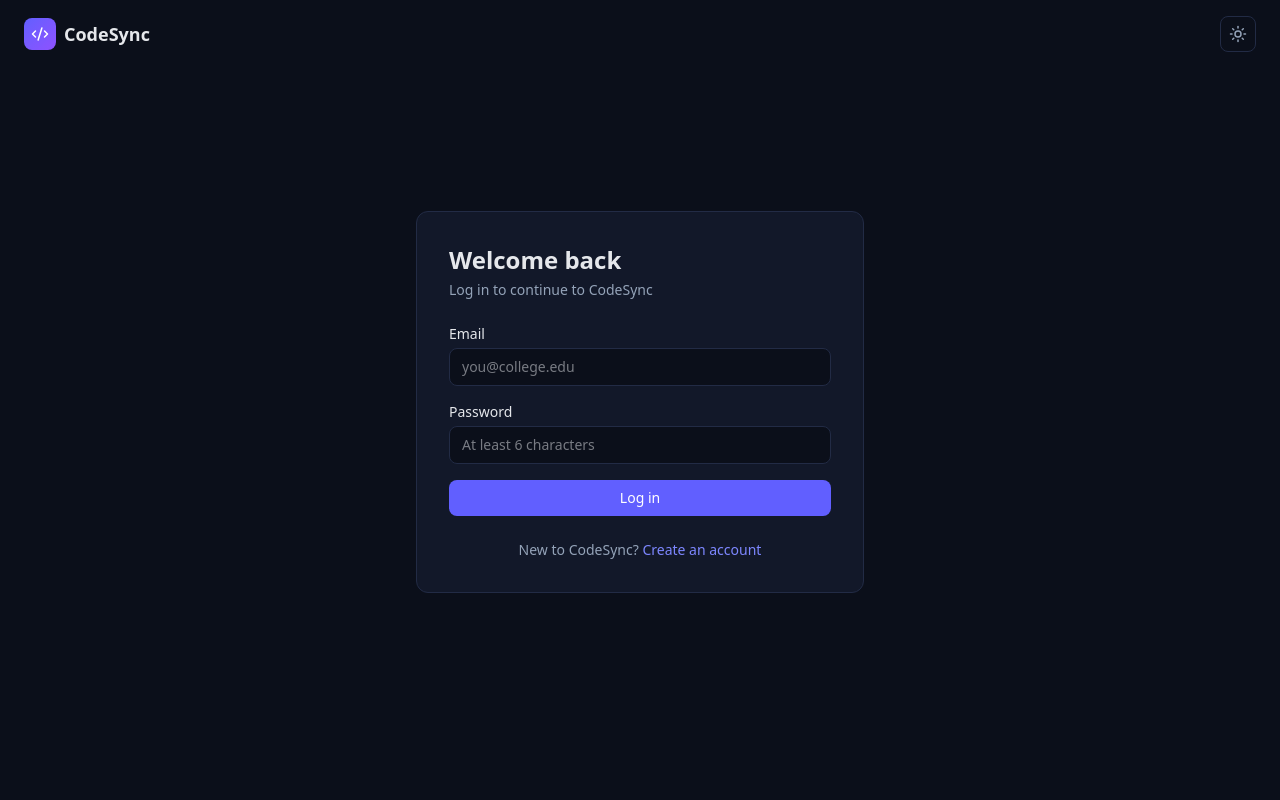
Scenario: Login page › explains what is wrong and does not call the server when the form is empty
The width and height of the screenshot is (1280, 800).
What coordinates should you click on to do the following:
click the button "Log in"
I would click on:
 (640, 498)
Its box is [449,480,831,516].
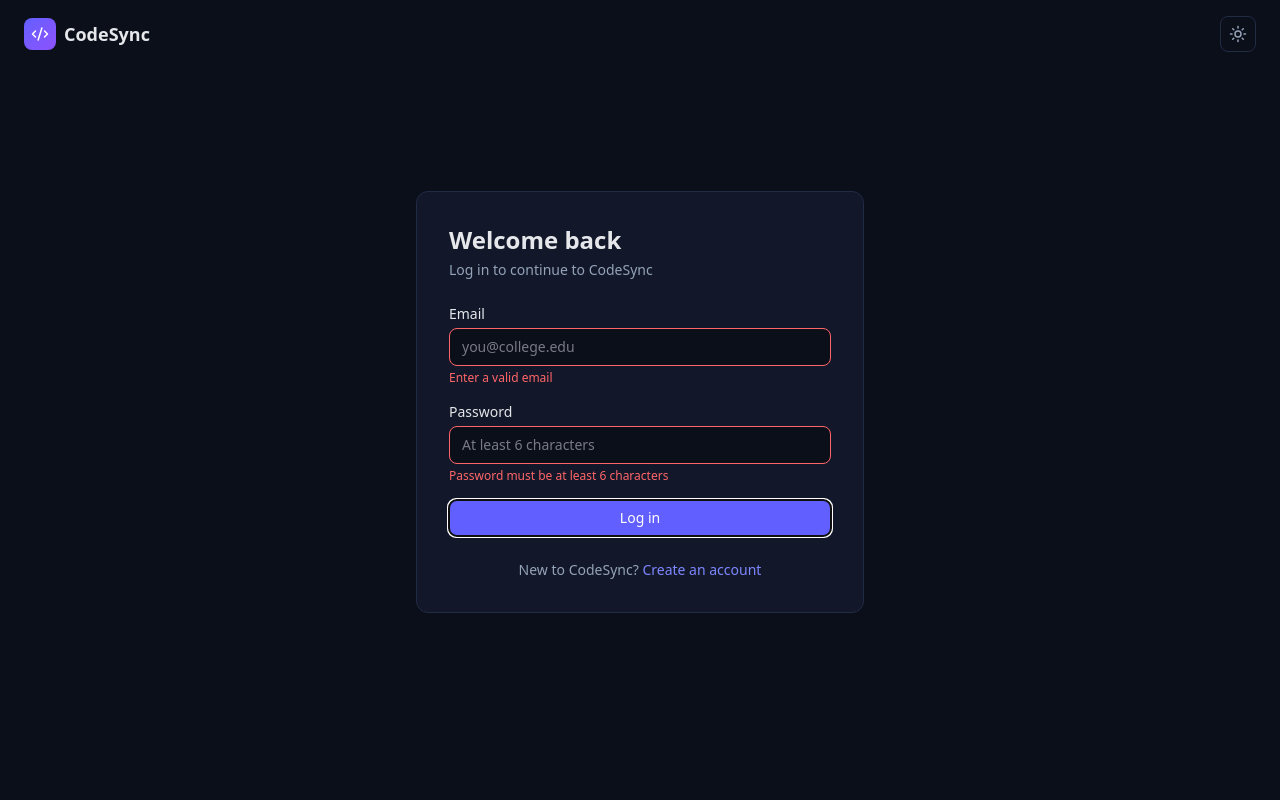
Expected: the text "Enter a valid email" is shown, [449,369,553,386]
Expected: the text "Password must be at least 6 characters" is shown, [449,467,668,484]
